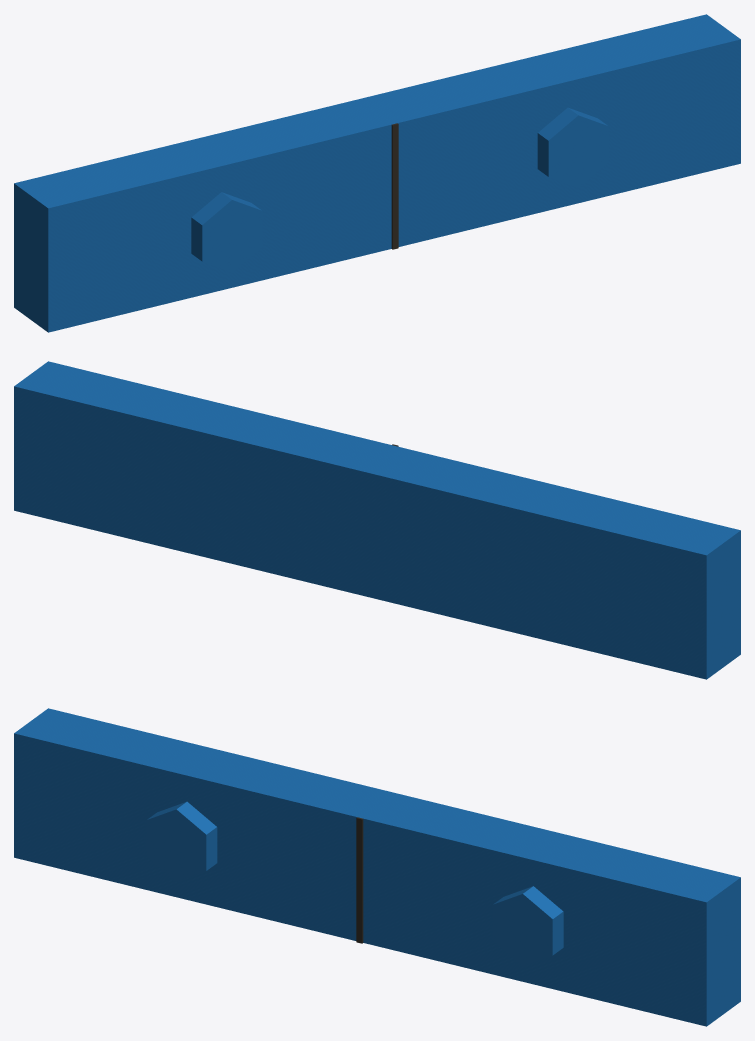
The model's file is brick-band.fbx.
The picture shows the model from 3 angles, top to bottom: view 1: azimuth 30°, elevation 25°; view 2: azimuth 150°, elevation 25°; view 3: azimuth 330°, elevation 25°; orthographic projection.
Parts seen in each view (by area): view 1: brick-band; view 2: brick-band; view 3: brick-band.
Part boxes in pixels (box(x1,y1,x2,y2)): brick-band: box(14, 14, 740, 332); brick-band: box(14, 361, 740, 679); brick-band: box(14, 708, 740, 1026).
Bounding box in the file's own units: 1400 × 240 × 158.
Materials: 1 (1 with a texture image).
